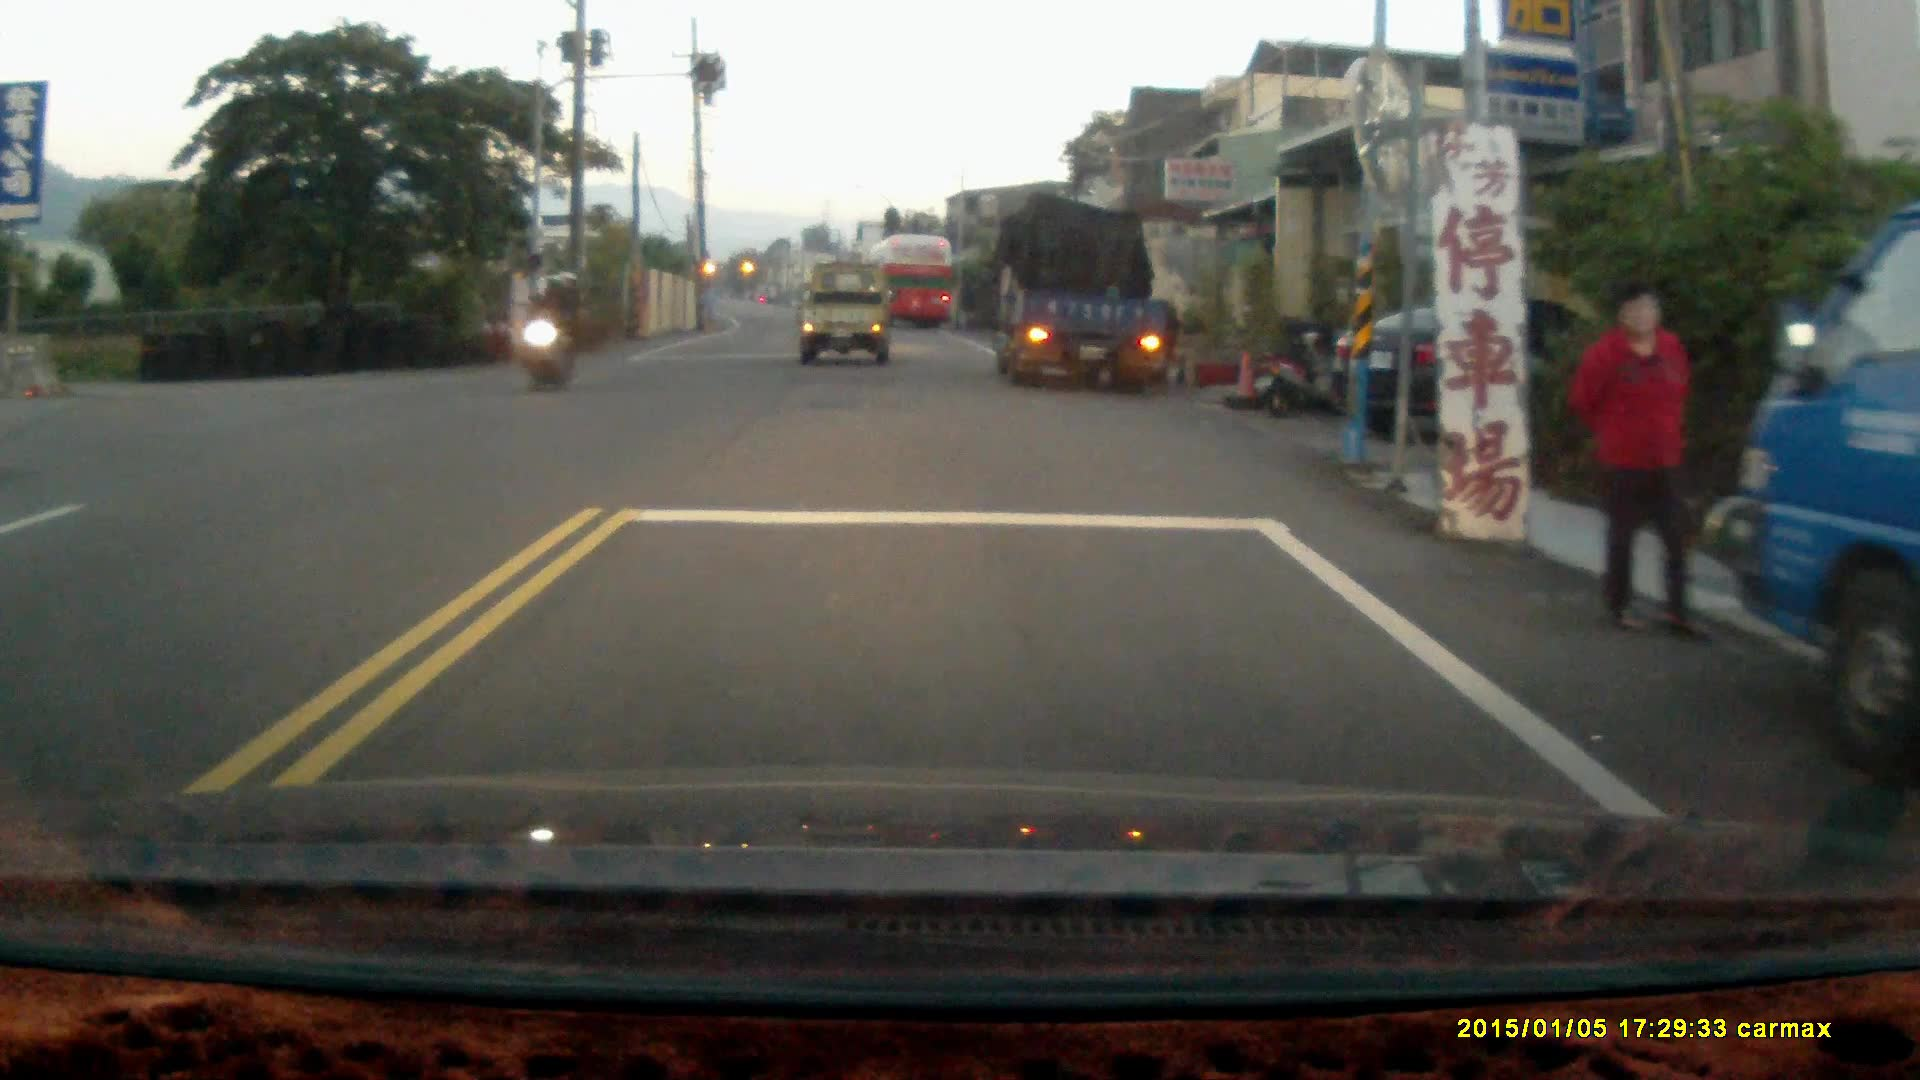pedestrian: (1572, 279, 1701, 644)
rider: (517, 269, 587, 396)
vehicle: (1709, 198, 1919, 803), (1336, 292, 1687, 451), (995, 196, 1182, 390), (800, 262, 894, 374), (866, 232, 960, 331)
